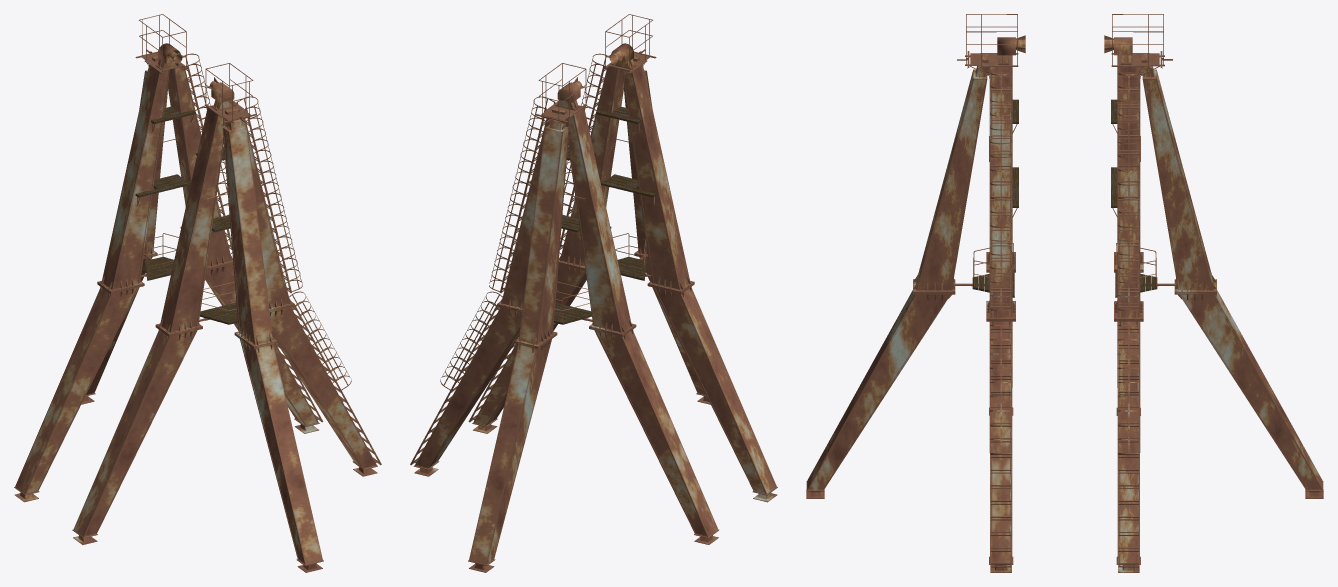
File: ferris_support.obj
3 renders of one model, left to right at view 1: azimuth 30°, elevation 25°; view 2: azimuth 150°, elevation 25°; view 3: azimuth 270°, elevation 25°, orthographic. The views are drawn at different scales.
Parts seen in each view (by area): view 1: Support_S_3_legs, Support_N_3_legs, Support_S_ladder, Support_S_other, Support_N_other, Support_N_wood, Support_N_ladder, Support_S_wood; view 2: Support_N_3_legs, Support_S_3_legs, Support_N_ladder, Support_N_other, Support_S_other, Support_S_wood, Support_S_ladder, Support_N_wood; view 3: Support_S_3_legs, Support_N_3_legs, Support_N_ladder, Support_S_ladder, Support_N_other, Support_S_other, Support_N_wood, Support_S_wood.
Boxes of the visible parts, x1,y1,x2,y2 form: Support_S_3_legs: (72, 108, 377, 572); Support_N_3_legs: (14, 65, 319, 502); Support_S_ladder: (236, 96, 381, 465); Support_S_other: (158, 63, 291, 352); Support_N_other: (100, 14, 233, 296); Support_N_wood: (135, 106, 195, 280); Support_N_ladder: (184, 53, 323, 422); Support_S_wood: (180, 147, 237, 324); Support_N_3_legs: (413, 108, 718, 572); Support_S_3_legs: (472, 65, 777, 502); Support_N_ladder: (410, 96, 555, 465); Support_N_other: (500, 63, 633, 352); Support_S_other: (558, 14, 691, 296); Support_S_wood: (596, 106, 656, 280); Support_S_ladder: (468, 53, 607, 422); Support_N_wood: (554, 147, 611, 324); Support_S_3_legs: (806, 66, 1015, 572); Support_N_3_legs: (1114, 66, 1323, 572); Support_N_ladder: (1117, 70, 1139, 567); Support_S_ladder: (990, 70, 1012, 567); Support_N_other: (1104, 14, 1216, 326); Support_S_other: (913, 14, 1025, 326); Support_N_wood: (1111, 99, 1157, 297); Support_S_wood: (972, 99, 1018, 297).
Bounding box in the file's own units: 11.12 × 15.42 × 15.25.
5 materials, 5 textured.
